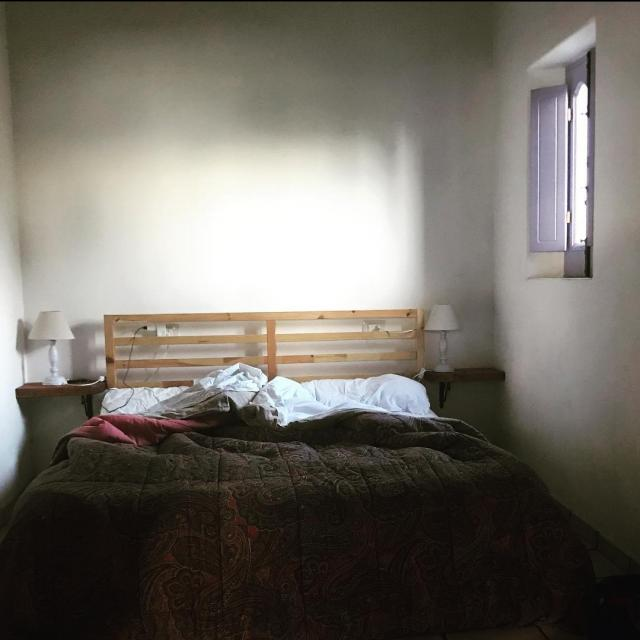bed: (0, 349, 581, 640)
